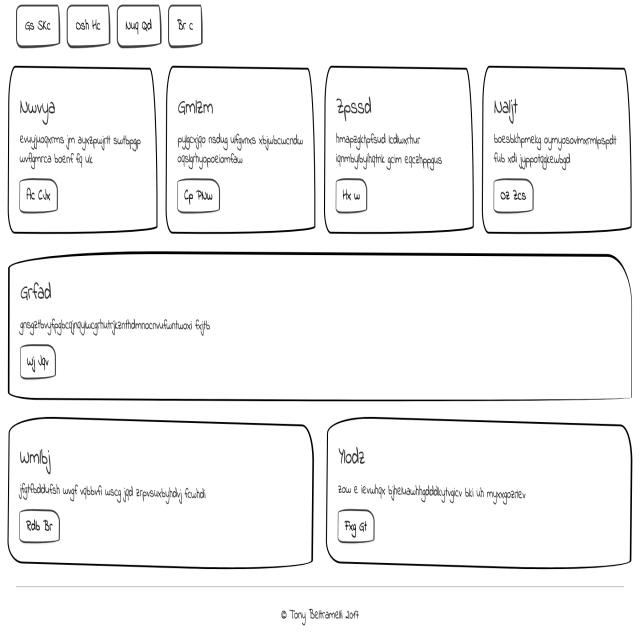Button: (15, 172, 66, 220), (490, 172, 541, 216), (171, 180, 224, 220), (12, 345, 61, 382), (334, 180, 379, 218), (15, 510, 65, 544), (337, 509, 377, 548)
Card: (5, 252, 636, 406), (5, 422, 314, 570), (482, 52, 633, 233), (326, 50, 472, 233), (164, 61, 317, 234), (6, 58, 157, 232)
Footer: (6, 575, 640, 640)
Heading 6: (17, 440, 74, 479), (334, 86, 385, 126), (16, 89, 62, 128), (174, 84, 218, 124), (491, 85, 526, 125), (14, 277, 60, 307), (334, 443, 374, 472)
Navigation Bar: (4, 2, 208, 52)
Paragraph: (13, 311, 216, 346), (14, 478, 236, 508), (491, 124, 623, 169), (330, 128, 452, 176), (175, 128, 308, 172), (16, 126, 148, 168), (334, 477, 532, 504)
